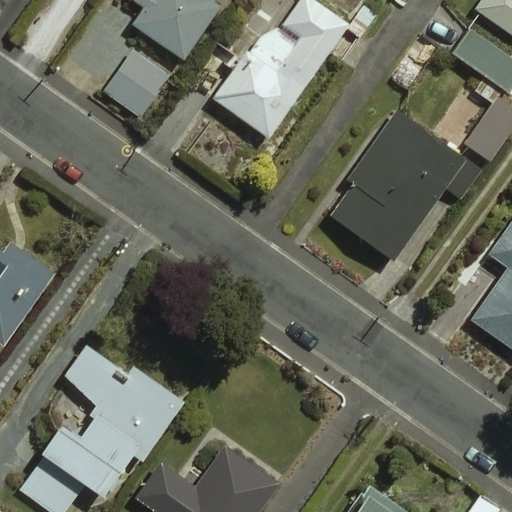DT: (101, 227, 134, 270)
